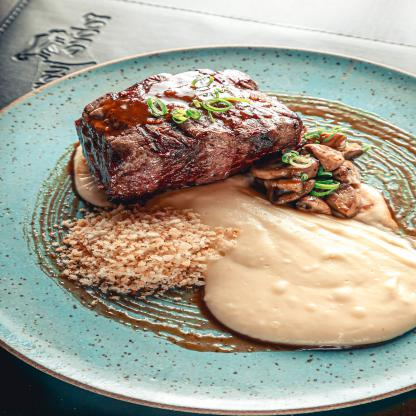Carne: (78, 64, 310, 198)
